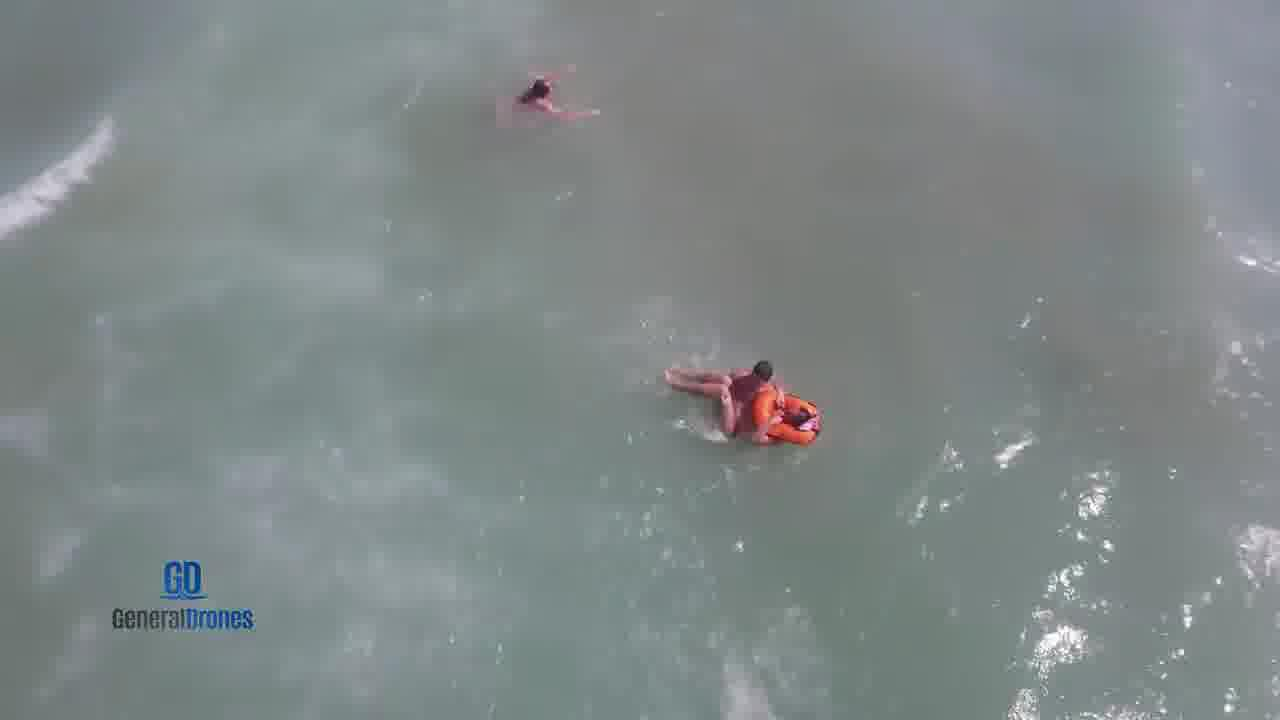human: (654, 365, 821, 446), (503, 65, 607, 112), (726, 356, 796, 391)
